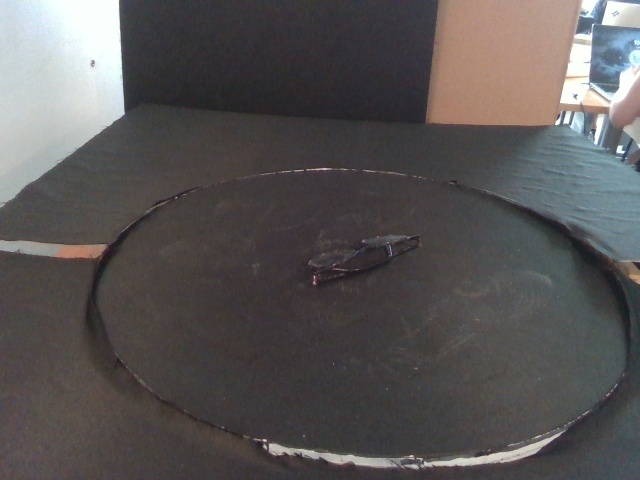glasses: (307, 234, 421, 288)
